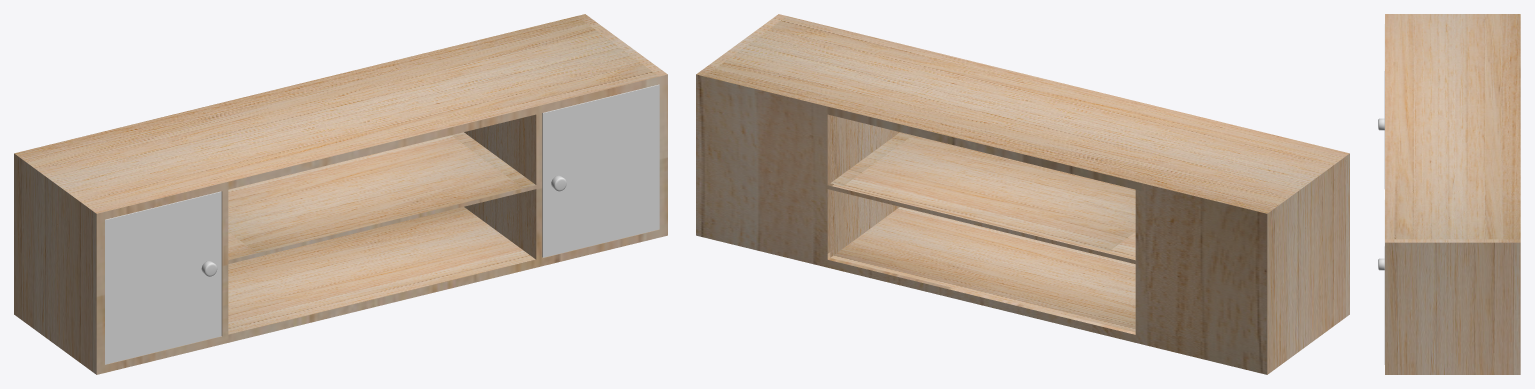
The model's file is TV desk.fbx.
3 renders of one model, left to right at view 1: azimuth 30°, elevation 25°; view 2: azimuth 150°, elevation 25°; view 3: azimuth 270°, elevation 25°, orthographic. The views are drawn at different scales.
Parts seen in each view (by area): view 1: Desk, doors; view 2: Desk; view 3: Desk, doors, Cylinder.
Boxes of the visible parts, x1,y1,x2,y2 form: Desk: (14,14,667,374); doors: (105,84,659,364); Desk: (696,14,1349,374); Desk: (1385,14,1520,374); doors: (1384,24,1384,364); Cylinder: (1378,118,1384,270).
Size of the model in its own units: 742 by 200 by 195.
